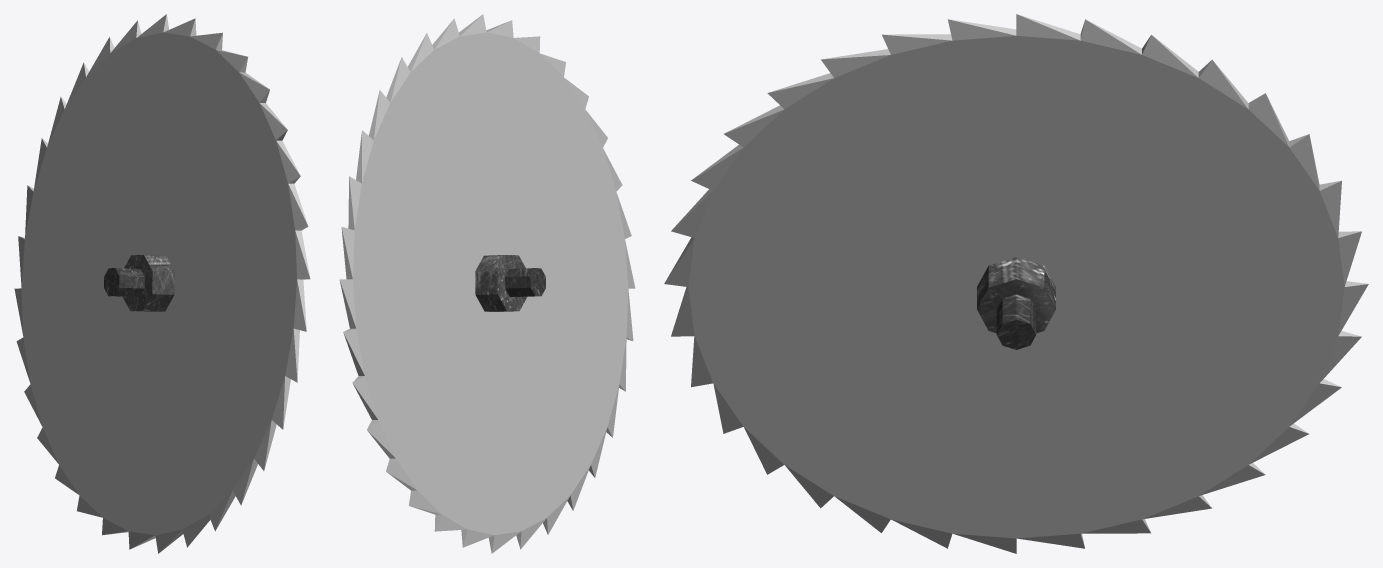
File: saw_v2_1withanimation.fbx
3 renders of one model, left to right at view 1: azimuth 30°, elevation 25°; view 2: azimuth 150°, elevation 25°; view 3: azimuth 270°, elevation 25°, orthographic. The views are drawn at different scales.
Parts seen in each view (by area): view 1: saw; view 2: saw; view 3: saw.
Boxes of the visible parts, x1,y1,x2,y2 form: saw: (14, 14, 310, 553); saw: (339, 14, 635, 553); saw: (664, 14, 1368, 553).
Size of the model in its own units: 36.91 by 138 by 143.
